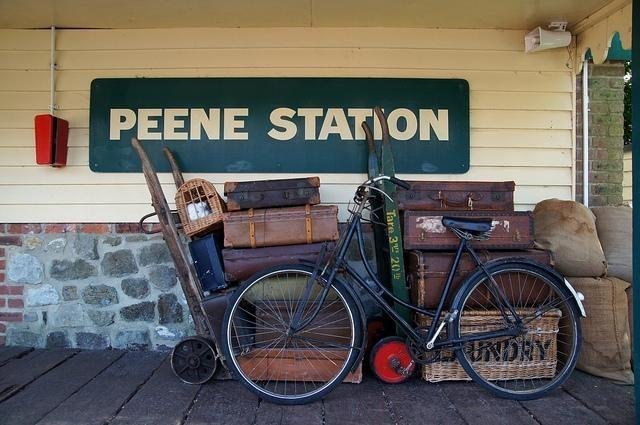bicycle: (222, 176, 590, 404)
